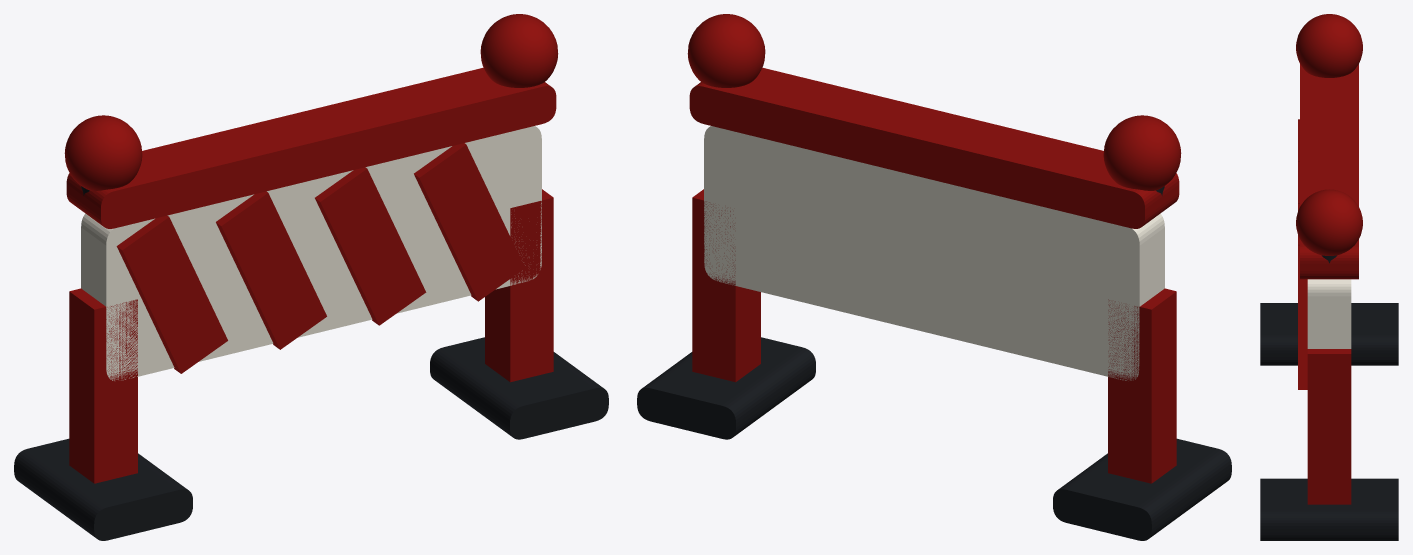
Rendered from barrier.obj.
3 renders of one model, left to right at view 1: azimuth 30°, elevation 25°; view 2: azimuth 150°, elevation 25°; view 3: azimuth 270°, elevation 25°, orthographic. The views are drawn at different scales.
Parts seen in each view (by area): view 1: panel, top_rail, leg_l, foot_l, foot_r, leg_r, stripe_2, stripe_3, stripe_1, stripe_0, lamp_l, lamp_r; view 2: panel, top_rail, leg_l, foot_l, foot_r, leg_r, lamp_l, lamp_r; view 3: top_rail, foot_r, leg_r, foot_l, lamp_r, lamp_l, panel, stripe_3.
Boxes of the visible parts, x1,y1,x2,y2 form: panel: [81, 126, 541, 380]; top_rail: [66, 67, 556, 228]; leg_l: [69, 288, 137, 483]; foot_l: [14, 438, 192, 540]; foot_r: [430, 337, 608, 439]; leg_r: [485, 189, 553, 382]; stripe_2: [315, 167, 426, 325]; stripe_3: [414, 143, 524, 301]; stripe_1: [216, 191, 326, 349]; stripe_0: [116, 215, 227, 373]; lamp_l: [64, 115, 142, 190]; lamp_r: [480, 14, 558, 87]; panel: [704, 126, 1164, 380]; top_rail: [689, 67, 1179, 228]; leg_l: [1108, 288, 1176, 483]; foot_l: [1053, 438, 1231, 540]; foot_r: [637, 337, 815, 439]; leg_r: [692, 189, 760, 382]; lamp_l: [1103, 115, 1181, 190]; lamp_r: [687, 14, 765, 87]; top_rail: [1300, 64, 1358, 279]; foot_r: [1260, 478, 1398, 540]; leg_r: [1307, 349, 1351, 504]; foot_l: [1260, 303, 1398, 365]; lamp_r: [1296, 189, 1362, 255]; lamp_l: [1296, 14, 1362, 77]; panel: [1307, 279, 1351, 348]; stripe_3: [1298, 244, 1307, 389].
Bounding box in the file's own units: 2.6 × 1.85 × 0.7.
